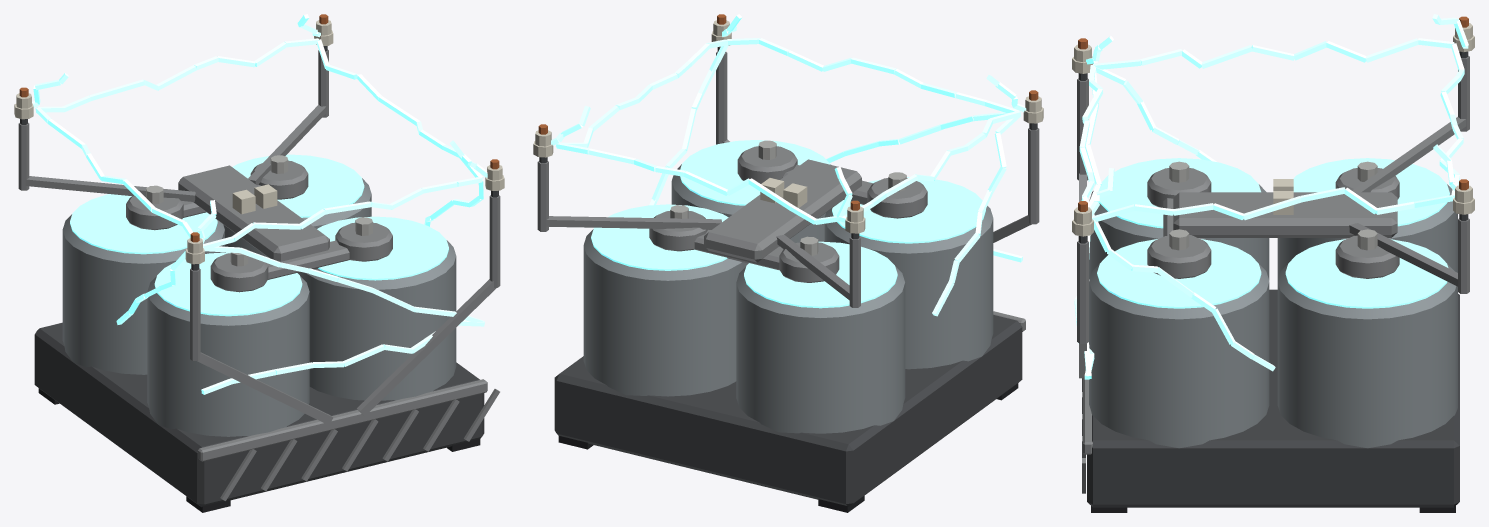
Rendered from accumulator.glb.
3 views of the same model, side by side, from view 1: azimuth 30°, elevation 25°; view 2: azimuth 150°, elevation 25°; view 3: azimuth 270°, elevation 25° (orthographic). The views are drawn at different scales.
Parts seen in each view (by area): view 1: body, anim_lit_charge, anim_lit_discharge; view 2: body, anim_lit_charge, anim_lit_discharge; view 3: body, anim_lit_charge, anim_lit_discharge.
Part boxes in pixels (x1,y1,x2,y2): body: (14,14,504,512); anim_lit_charge: (32,14,487,316); anim_lit_discharge: (35,38,484,394); body: (533,14,1043,512); anim_lit_charge: (551,14,1026,308); anim_lit_discharge: (555,38,1022,316); body: (1072,16,1474,512); anim_lit_charge: (1086,14,1468,308); anim_lit_discharge: (1074,38,1464,379).
Bounding box in the file's own units: 2.03 × 1.97 × 2.01.
